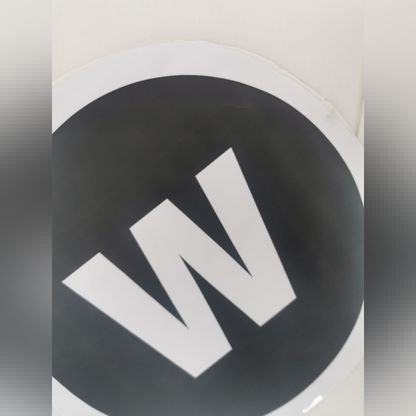W: (52, 88, 371, 403)
